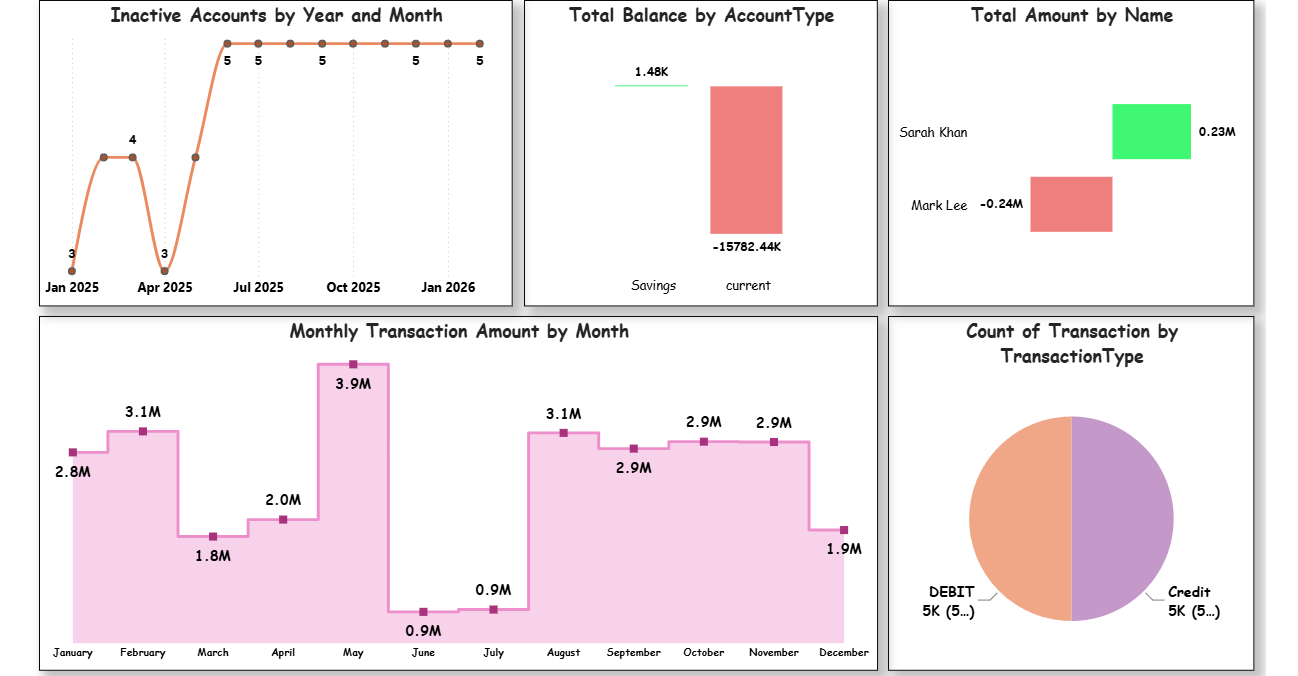

The dashboard page shown, as its layout file describes it:
{"tool":"powerbi","page":{"name":"Page 1","canvas":[1280,720],"ordinal":0},"visuals":[{"type":"pieChart","fields":{"Category":["CombinedBankingDataset.TransactionType"],"Y":["Measures Table.Count of Transaction"]},"box":[888.8,340.6,379.4,367.5],"z":0},{"type":"areaChart","fields":{"Category":["CombinedBankingDataset.TransactionDate.Variation.Date Hierarchy.Month"],"Y":["Measures Table.Monthly Transaction Amount"]},"box":[10.5,340.6,867.9,367.5],"z":1000},{"type":"barChart","title":"Total Amount by Name","fields":{"Y":["Sum(CombinedBankingDataset.Amount)"],"Category":["CombinedBankingDataset.Name"]},"box":[888.8,13.4,379.4,316.7],"z":2000},{"type":"clusteredColumnChart","fields":{"Y":["Measures Table.Total Balance"],"Category":["CombinedBankingDataset.AccountType"]},"box":[512.4,13.4,366,316.7],"z":3000},{"type":"lineChart","fields":{"Y":["Measures Table.Inactive Accounts"],"Category":["CombinedBankingDataset.TransactionDate.Variation.Date Hierarchy.Year","CombinedBankingDataset.TransactionDate.Variation.Date Hierarchy.Month"]},"box":[10.5,13.4,490,316.7],"z":4000}]}

Visuals, with their boxes in screenshot pixels (x1, y1, x2, y2):
pieChart - CombinedBankingDataset.TransactionType x Measures Table.Count of Transaction: 884, 313, 1248, 666
areaChart - CombinedBankingDataset.TransactionDate.Variation.Date Hierarchy.Month x Measures Table.Monthly Transaction Amount: 40, 313, 874, 666
"Total Amount by Name" barChart: 884, 0, 1248, 303
clusteredColumnChart - Measures Table.Total Balance x CombinedBankingDataset.AccountType: 522, 0, 874, 303
lineChart - Measures Table.Inactive Accounts x CombinedBankingDataset.TransactionDate.Variation.Date Hierarchy.Year: 40, 0, 511, 303
